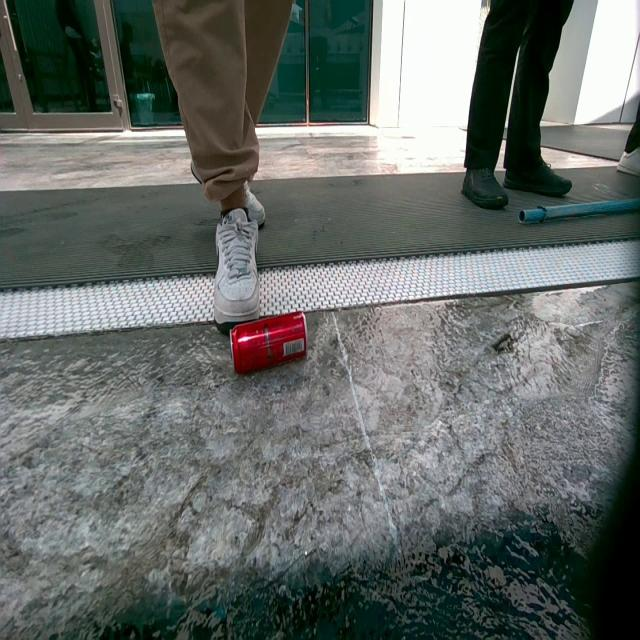Cans: (233, 316, 310, 379)
